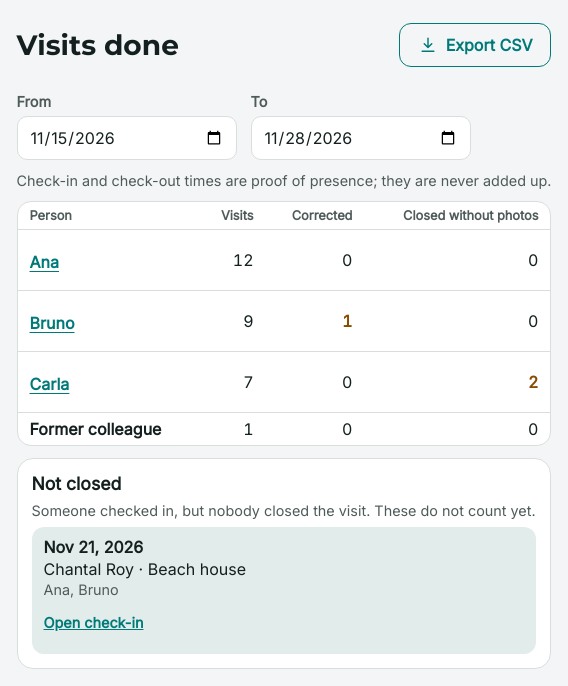
Test: the Visits done report › opens a person's visits: date, client, property, photos and markers, times as proof only
Step 1. Click the button "Carla" → click(49, 384), box [30,362,69,406]
(page scrolled)
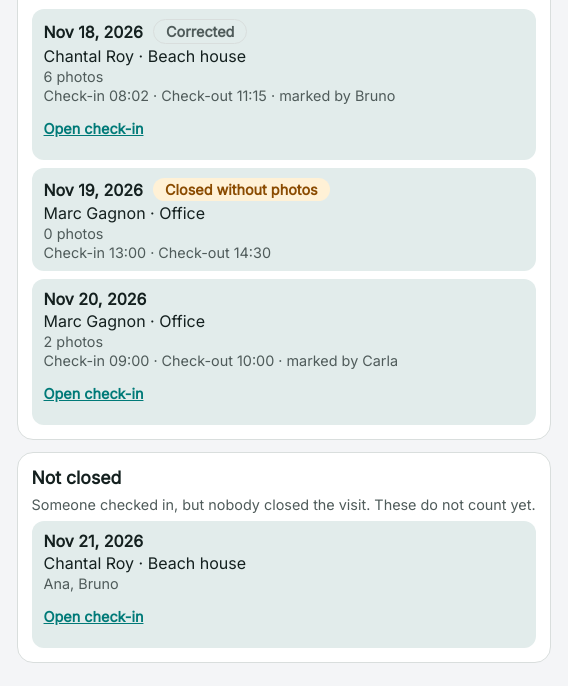
Expected: the list item that starts with "Nov 18, 2026" is shown, [44,22,143,42]
Expected: the list item that starts with "Nov 18, 2026" shows "Chantal Roy · Beach house", [44,46,246,66]
Expected: the list item that starts with "Nov 18, 2026" shows "6 photos", [44,68,103,85]
